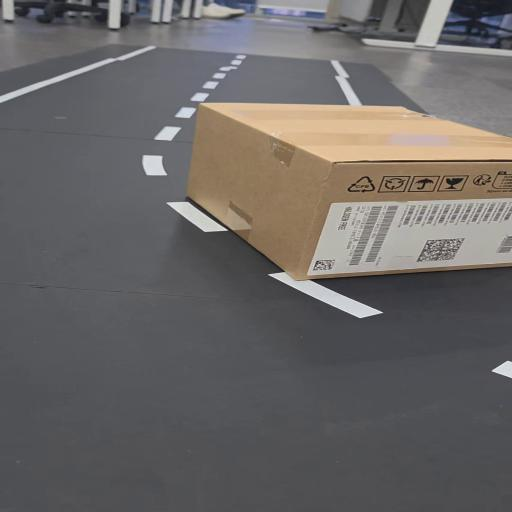Box: (178, 96, 512, 285)
